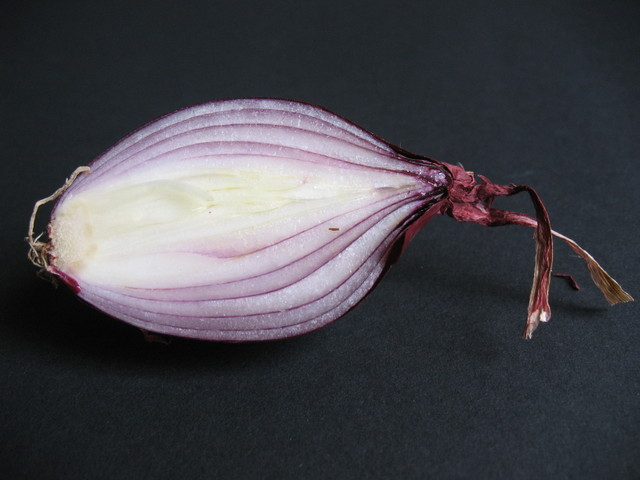onion: (24, 86, 637, 344)
